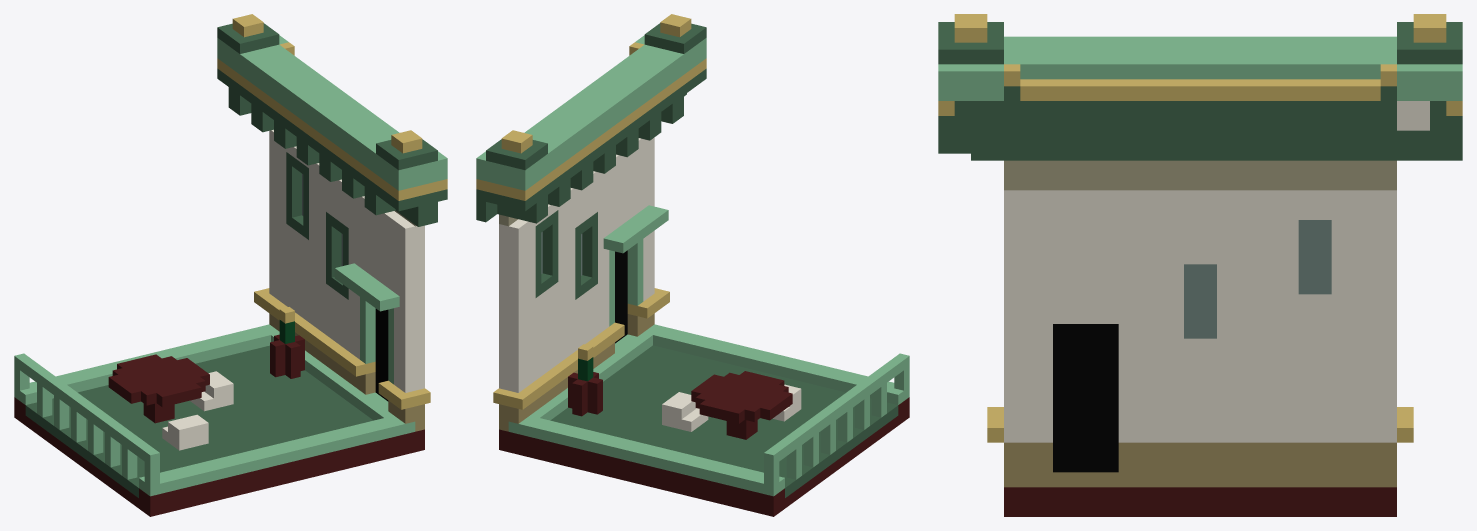
Rendered from tile_3_right_fancy.obj.
The picture shows the model from 3 angles, left to right: view 1: azimuth 30°, elevation 25°; view 2: azimuth 150°, elevation 25°; view 3: azimuth 270°, elevation 25°; orthographic projection. The views are drawn at different scales.
Bounding box in the file's own units: 2.8 × 3.2 × 3.2.
